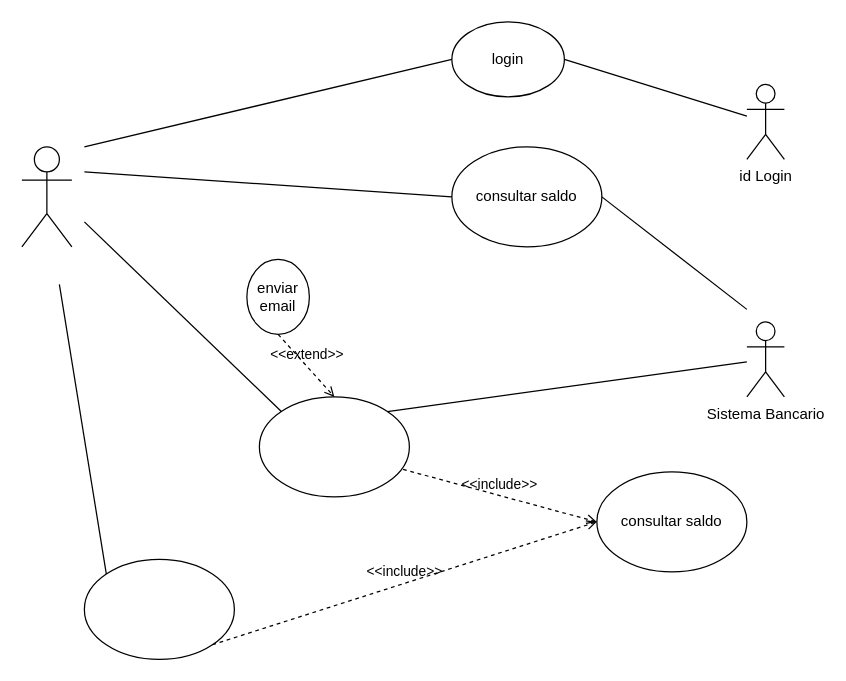
Image size: 846x681. Some labels were removed from this diagram. Each missing label, with the box of its shape:
Cliente: (21, 146, 72, 247)
realizar pagos: (83, 558, 234, 659)
realizar transferencia: (258, 396, 409, 497)
